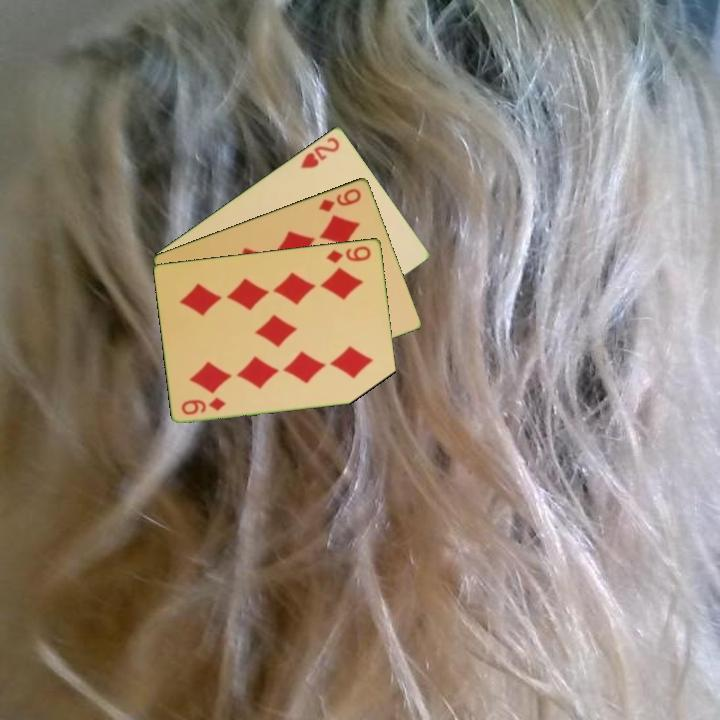2h: (296, 133, 343, 171)
9d: (315, 184, 364, 214), (323, 242, 374, 266), (178, 393, 229, 417)
